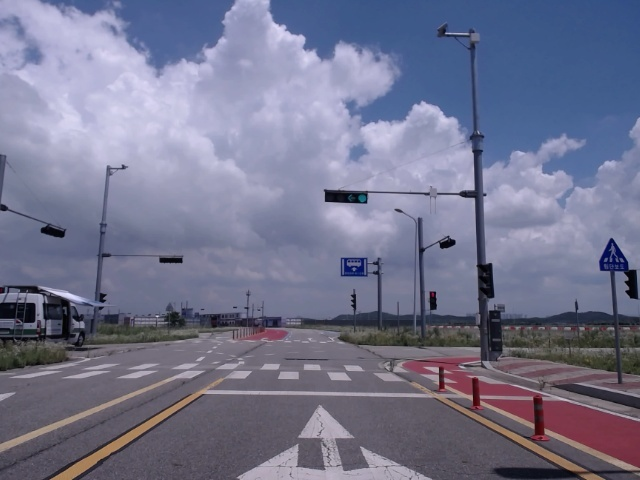all_green_4: (327, 186, 367, 204)
